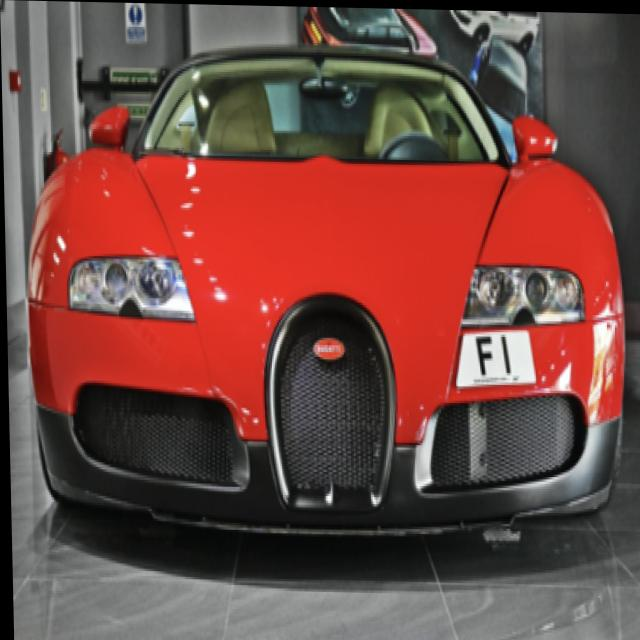licence: (462, 324, 530, 388)
